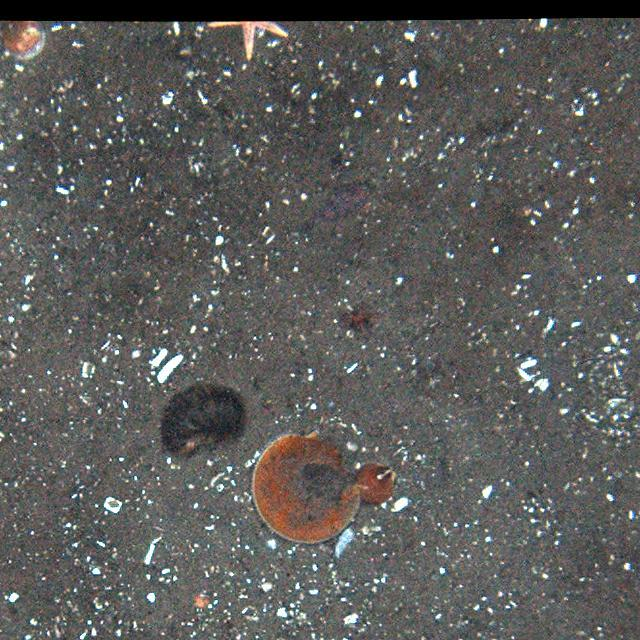flatfish: (295, 177, 375, 234)
